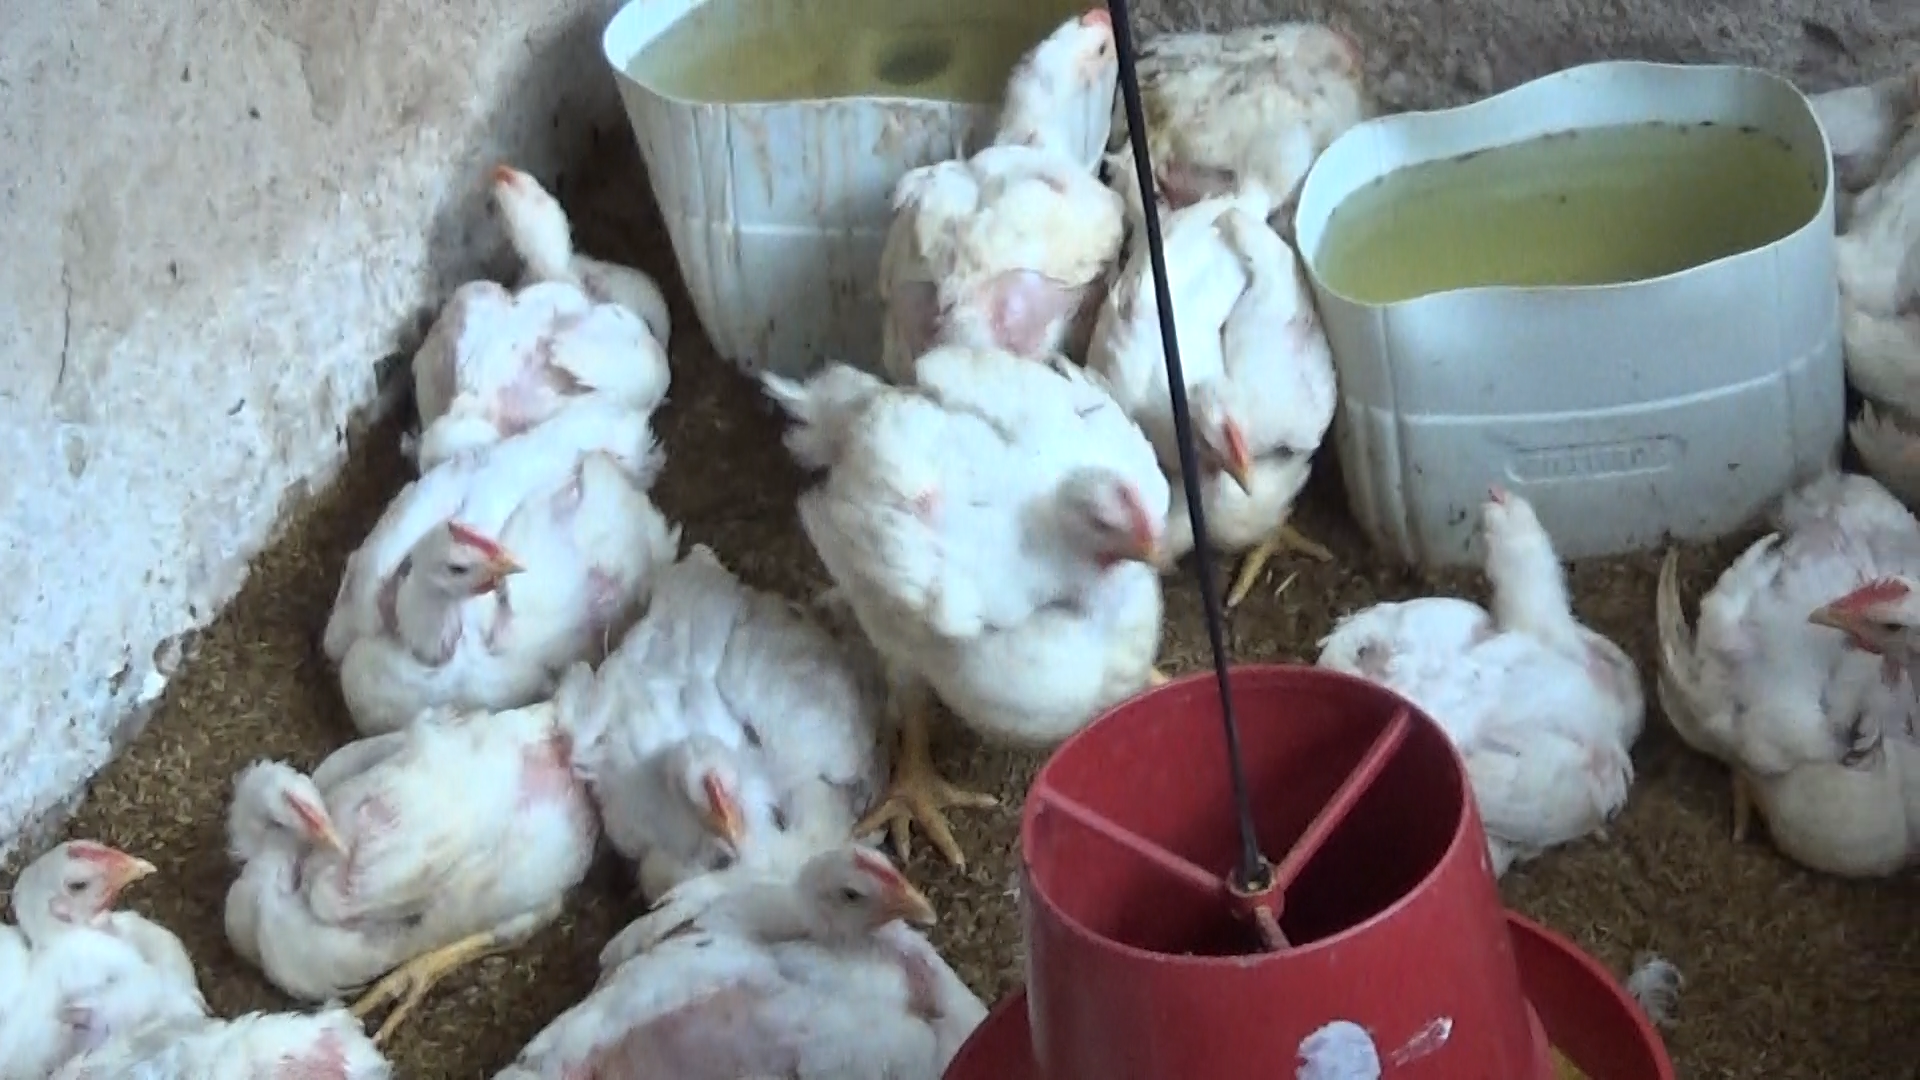Pollos: (785, 359, 1197, 837), (1316, 479, 1644, 876), (229, 684, 600, 1022), (471, 848, 981, 1080), (315, 396, 650, 731), (862, 0, 1151, 388), (1648, 458, 1920, 866), (589, 502, 877, 866), (1124, 187, 1341, 589), (404, 152, 662, 458), (0, 816, 208, 1080)
